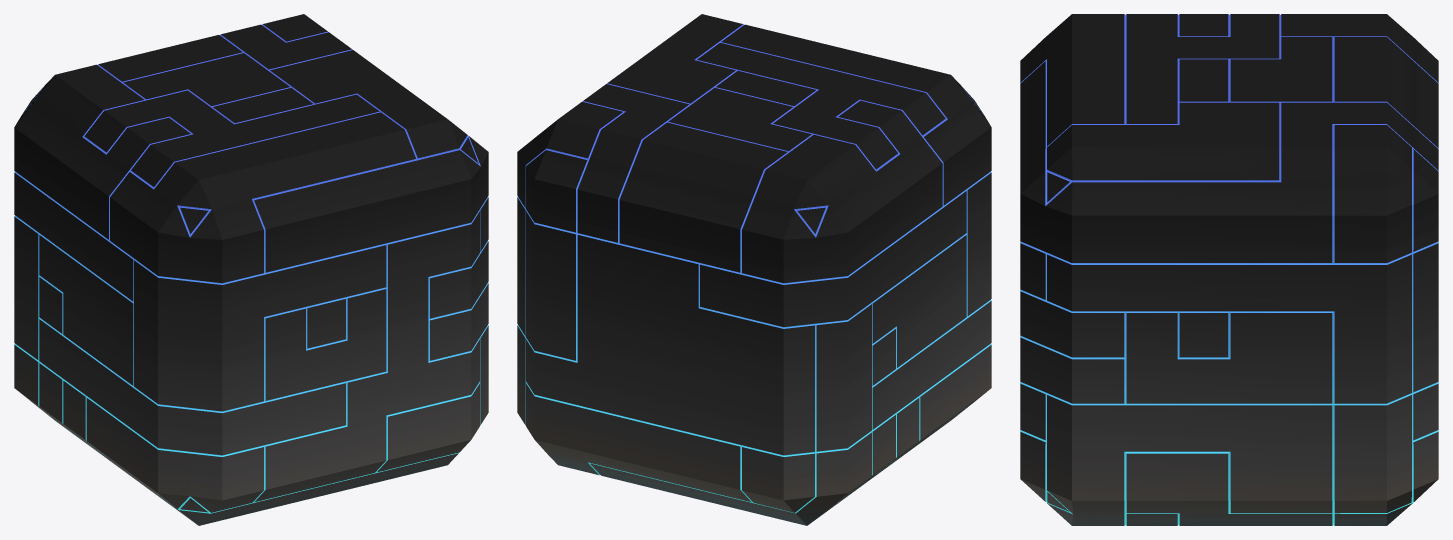
The model's file is 6a4120e4-03a7-49c7-9804-6f28b895acde.glb.
3 renders of one model, left to right at view 1: azimuth 30°, elevation 25°; view 2: azimuth 150°, elevation 25°; view 3: azimuth 270°, elevation 25°, orthographic. The views are drawn at different scales.
Visible parts, largest first — view 1: CyberPunkCubeShapeD.001; view 2: CyberPunkCubeShapeD.001; view 3: CyberPunkCubeShapeD.001.
Part boxes in pixels (x1,y1,x2,y2): CyberPunkCubeShapeD.001: (14, 14, 488, 525); CyberPunkCubeShapeD.001: (517, 14, 991, 525); CyberPunkCubeShapeD.001: (1020, 14, 1438, 525).
Size of what is drawn, in the model's own units: 0.7816 by 0.7816 by 0.7816.
2 materials, 2 textured.
